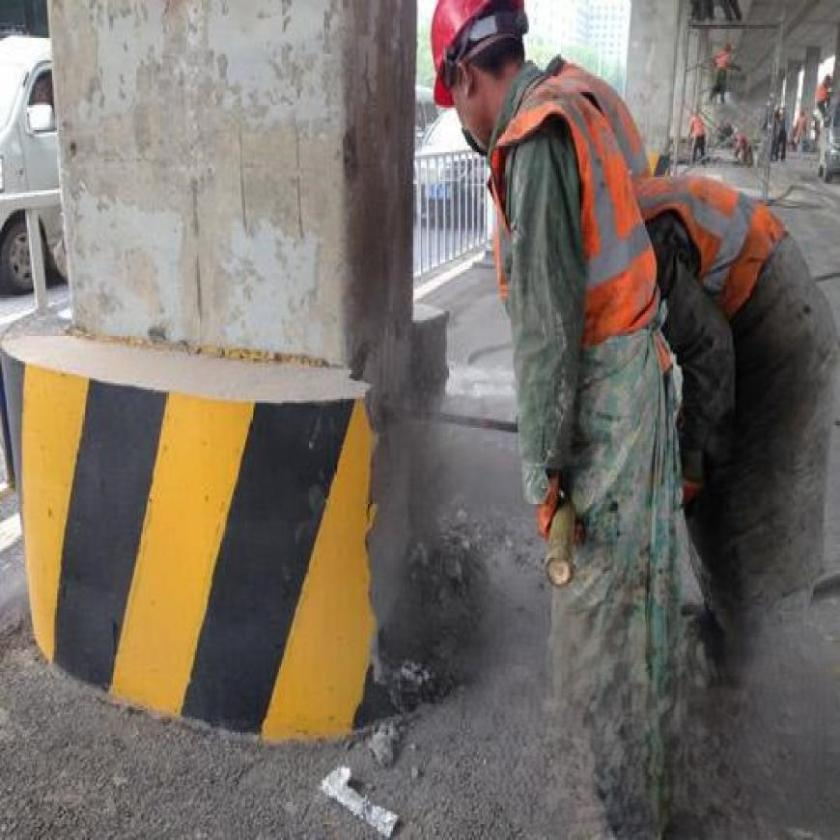Con_casco: (414, 0, 534, 158)
